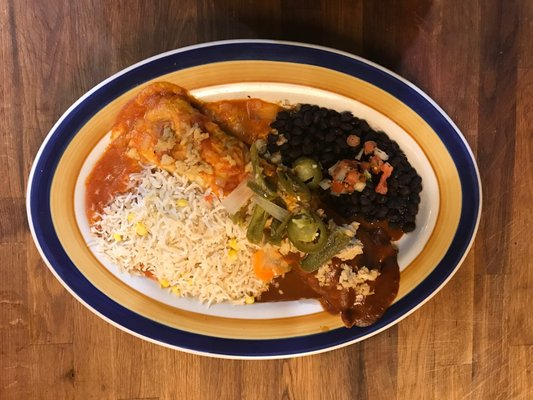sushi: (38, 39, 483, 366)
